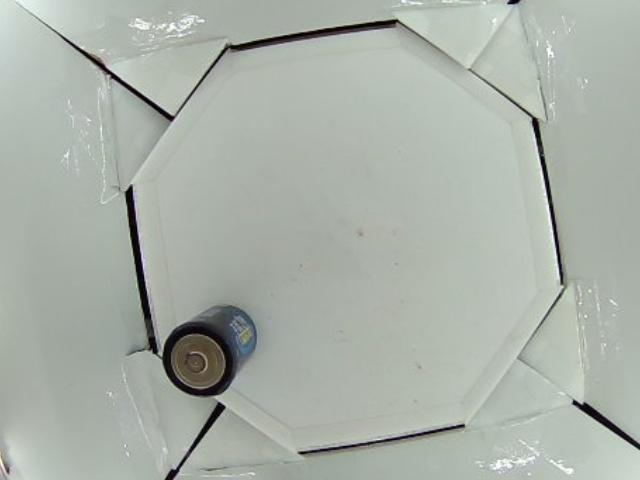Battery: (159, 306, 257, 398)
